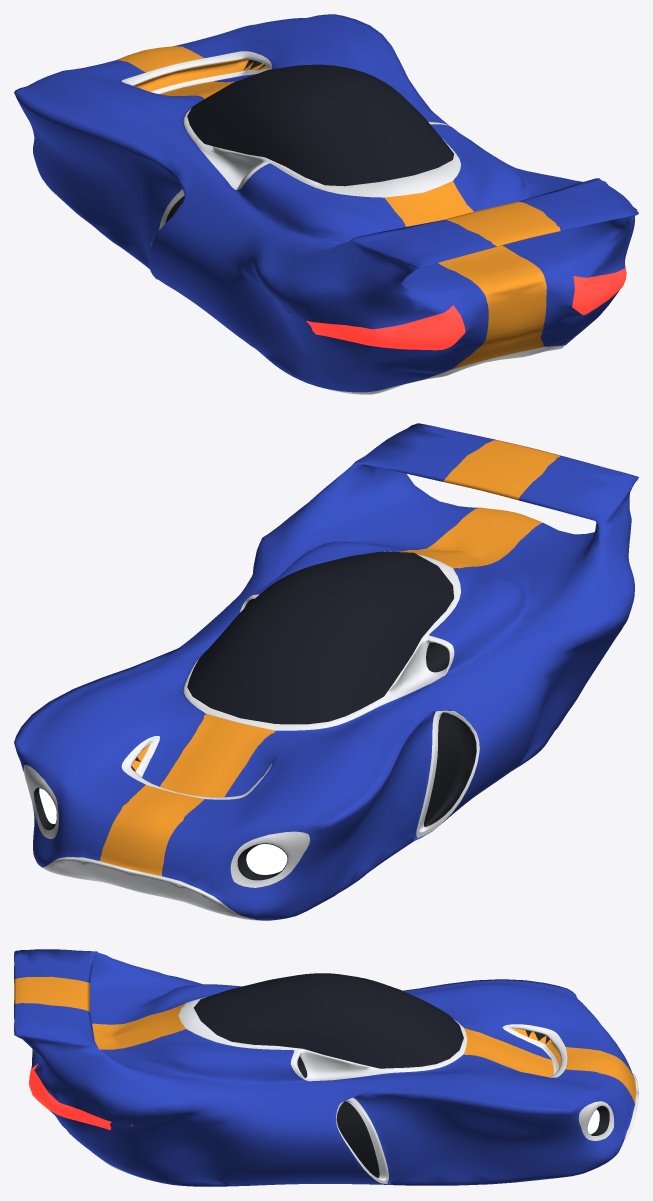
File: w1-flared.glb
3 views of the same model, one above another, from view 1: azimuth 30°, elevation 25°; view 2: azimuth 150°, elevation 25°; view 3: azimuth 270°, elevation 25° (orthographic). The views are drawn at different scales.
Visible parts, largest first — view 1: Body.001, Canopy; view 2: Body.001, Canopy; view 3: Body.001, Canopy.
Part boxes in pixels (x1=…): Body.001: x1=14, y1=14, x2=638, y2=394; Canopy: x1=187, y1=64, x2=453, y2=186; Body.001: x1=14, y1=423, x2=638, y2=920; Canopy: x1=187, y1=551, x2=453, y2=724; Body.001: x1=14, y1=949, x2=638, y2=1186; Canopy: x1=194, y1=973, x2=463, y2=1068.
Bounding box in the file's own units: 2 × 1.12 × 4.01.
